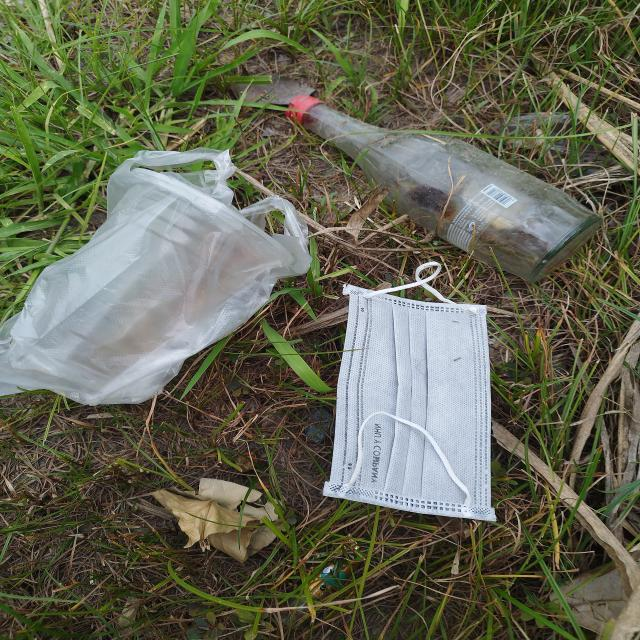bottle: (286, 95, 601, 281)
mask: (321, 262, 494, 522)
trash bag: (0, 149, 315, 407)
